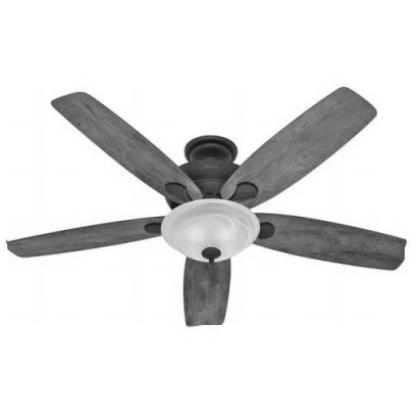ceiling-fan: (7, 86, 406, 326)
